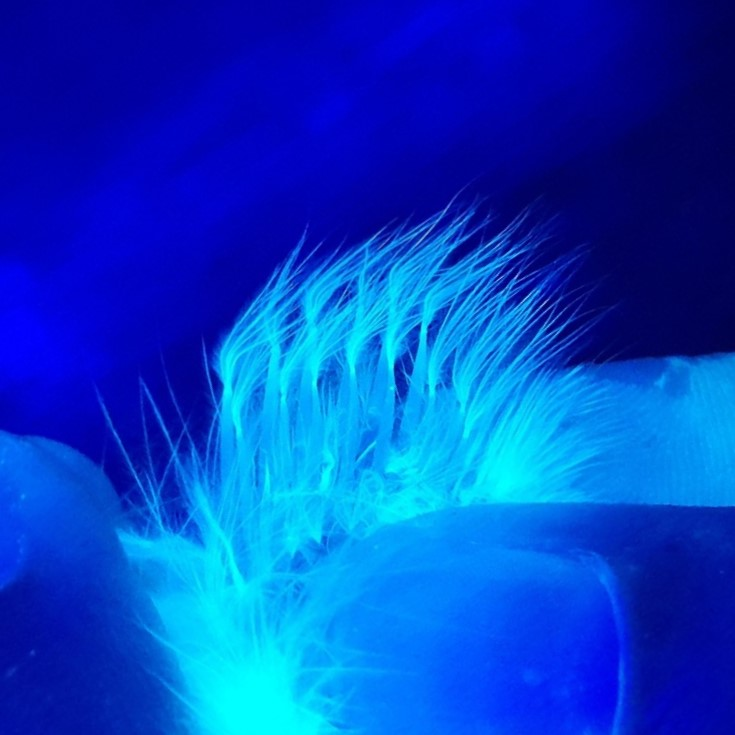female: (200, 297, 502, 583)
